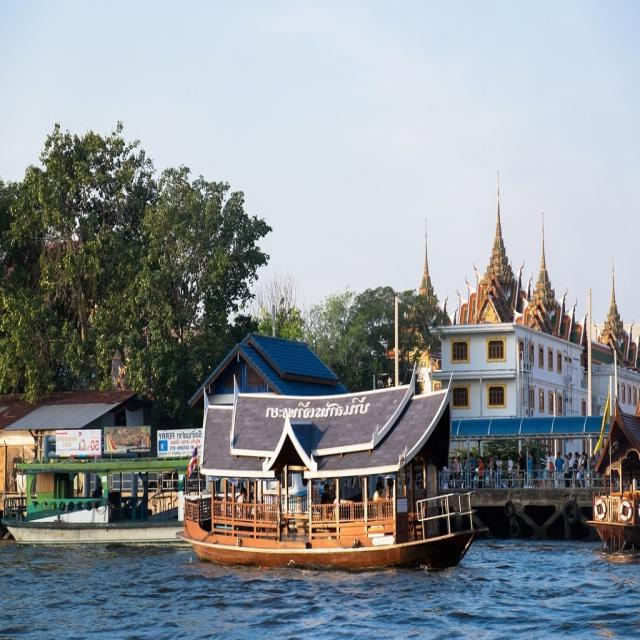boat: (188, 486, 472, 572), (3, 459, 210, 550)
